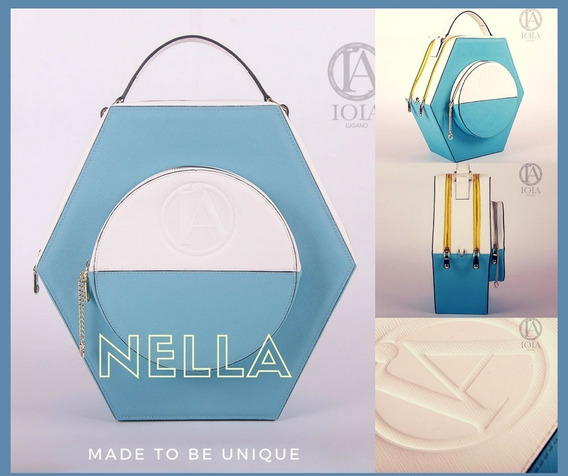cartera: (34, 32, 358, 423), (409, 11, 523, 161)
